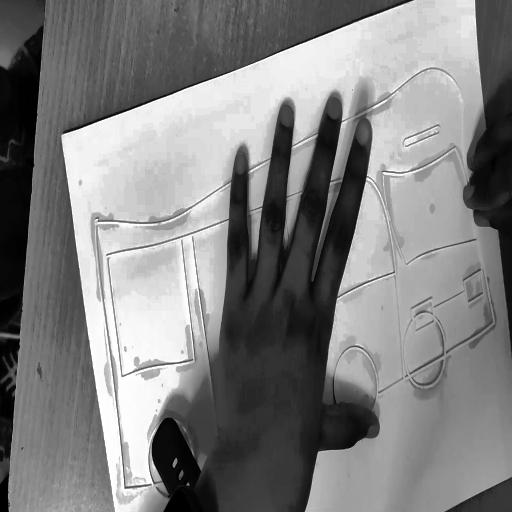bus: (6, 46, 512, 512)
top_left: (57, 127, 65, 146)
